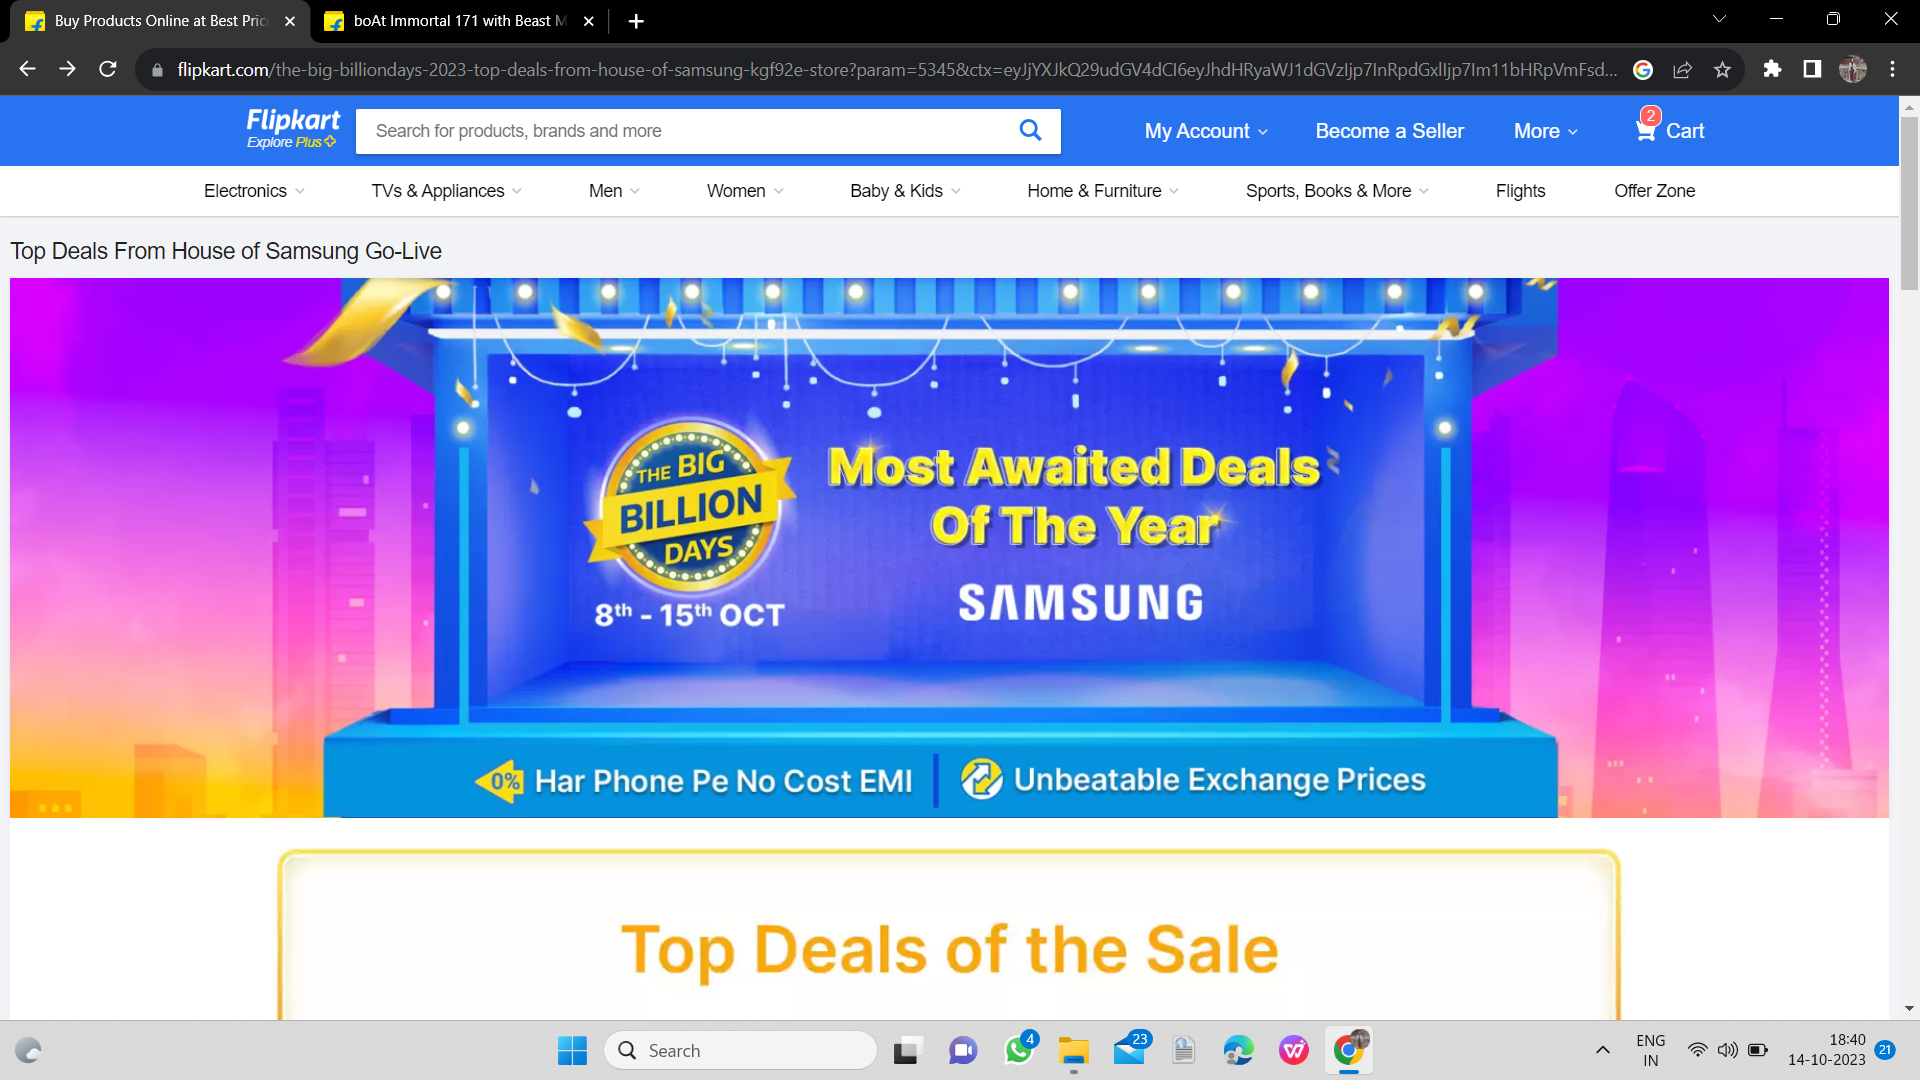Image: (24, 274, 1894, 815), (356, 92, 1085, 158)
Paragraph: (596, 893, 1303, 990), (7, 216, 448, 269), (223, 95, 353, 146), (1309, 104, 1472, 145), (1133, 99, 1266, 146), (1629, 102, 1706, 160), (1497, 108, 1581, 152)
